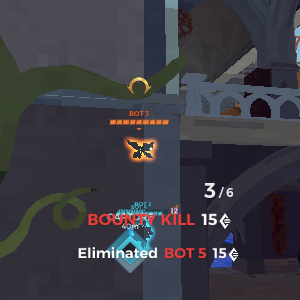model: (125, 133, 157, 162)
